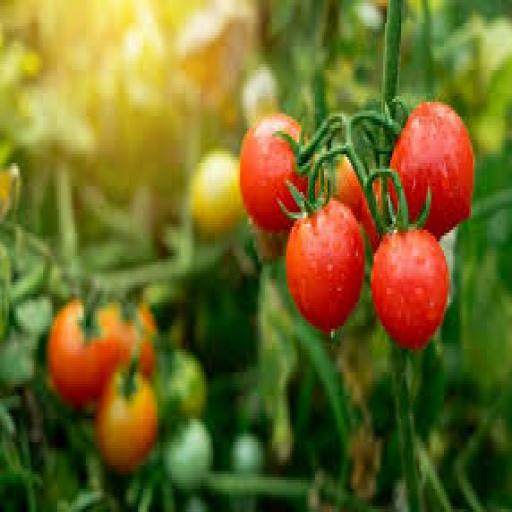tomato: (391, 102, 474, 238), (287, 198, 365, 331), (47, 300, 139, 407), (371, 230, 449, 349), (240, 114, 307, 232), (47, 300, 118, 407), (95, 373, 157, 474), (190, 152, 243, 238), (99, 303, 157, 378), (337, 158, 379, 250), (165, 419, 213, 491), (163, 350, 205, 418), (337, 158, 365, 221), (231, 434, 264, 474), (183, 495, 207, 511)
